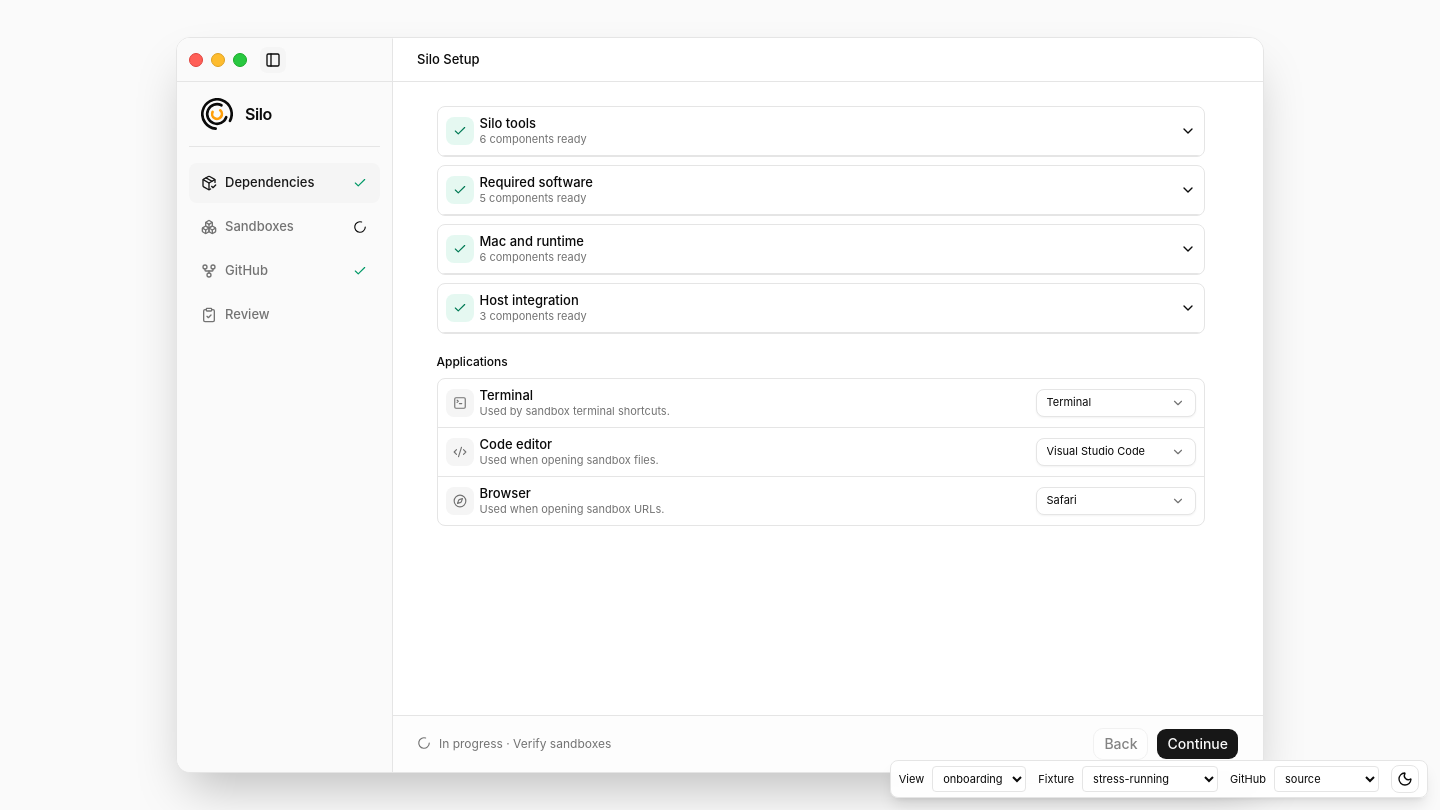
it: onboarding › keeps stress-fixture activity collapsed until requested and filters unsafe output
This screenshot has width=1440, height=810.
Click the tab "Sandboxes".
click(284, 227)  # box [189,207,380,247]
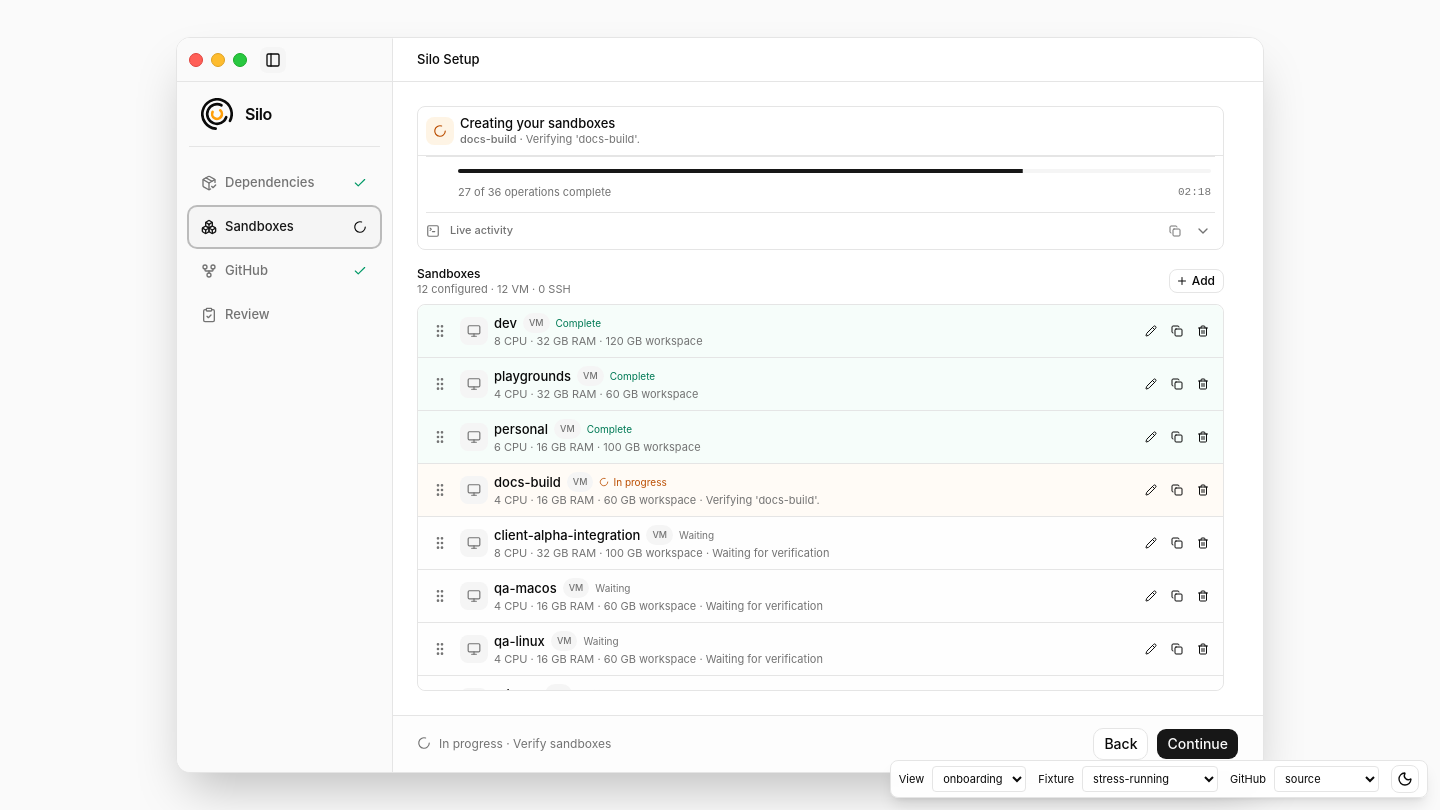
Now the text named "Elapsed time" reads "02:18", box [1178,186,1211,198]
Now the text "27 of 36 operations complete" is shown, box [458,185,611,200]
Now the text "12 configured · 12 VM · 0 SSH" is shown, box [417,282,571,296]
Click the button named "Expand activity".
click(1203, 231)  # box [1191,219,1215,243]
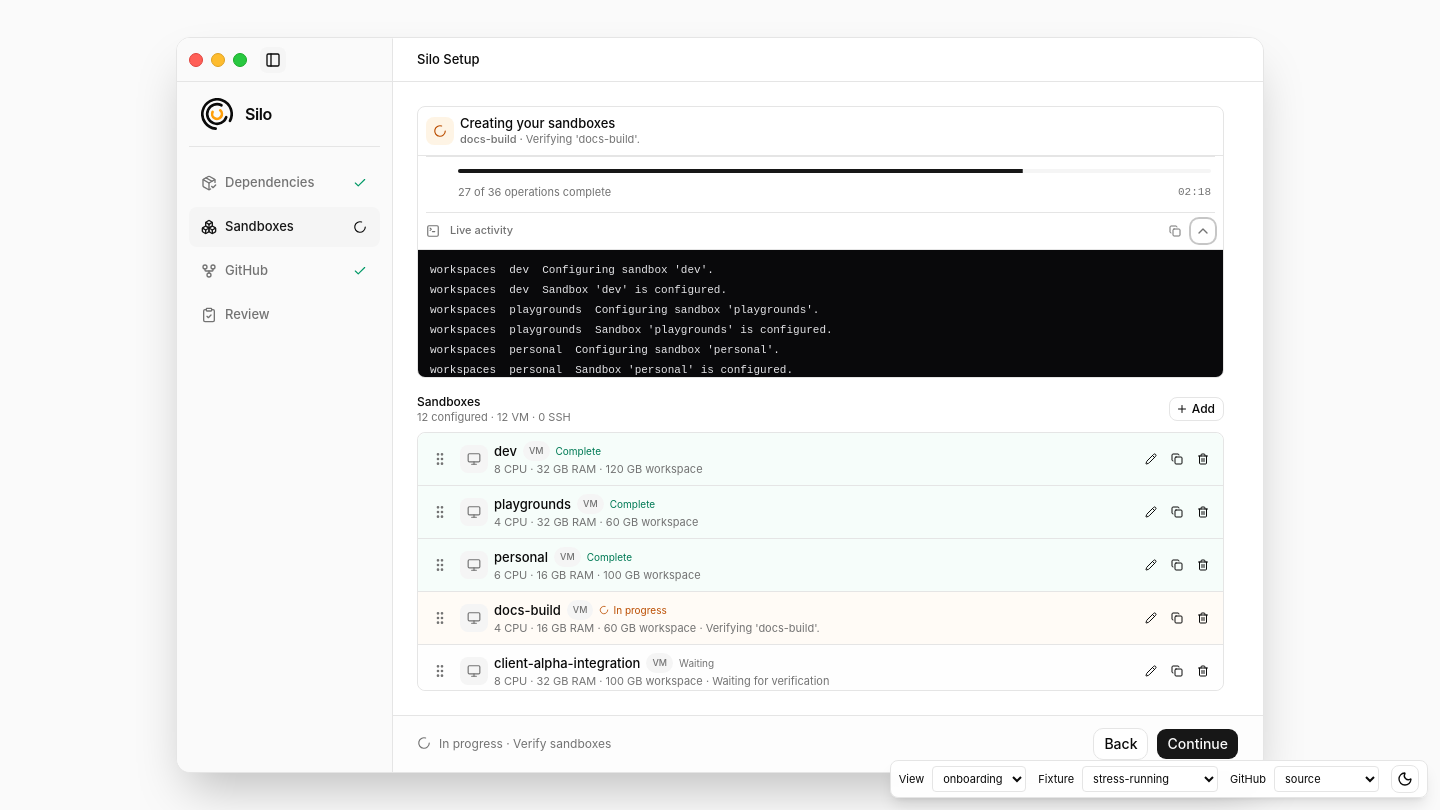
Now the button named "Expand activity" is expanded, box [1191,219,1215,243]
Click the button named "Copy activity".
click(1175, 231)  # box [1163,219,1187,243]
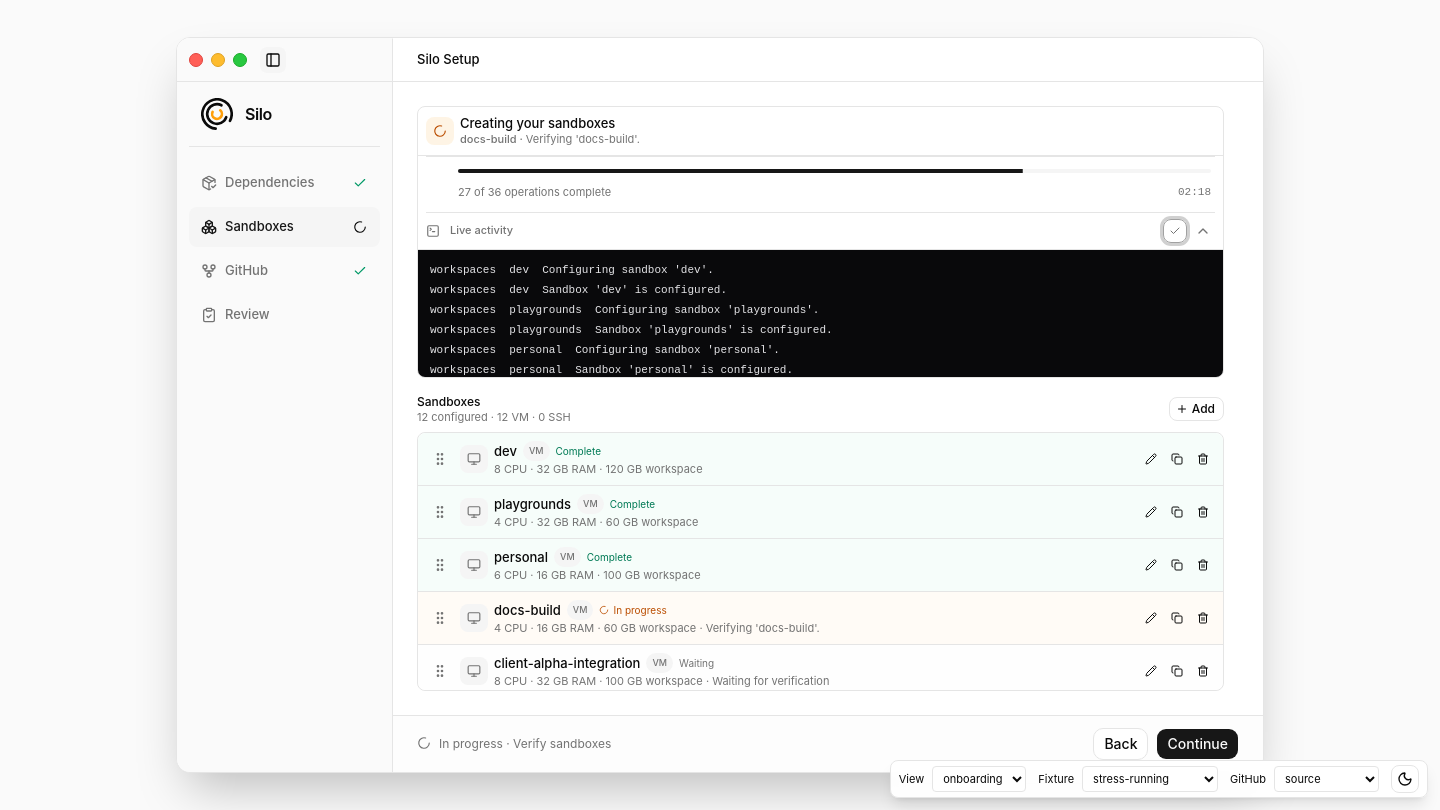
Now the button named "Activity copied" has attribute data-copy-status="copied", box [1163,219,1187,243]
Click the button named "Collapse activity".
click(1203, 231)  # box [1191,219,1215,243]
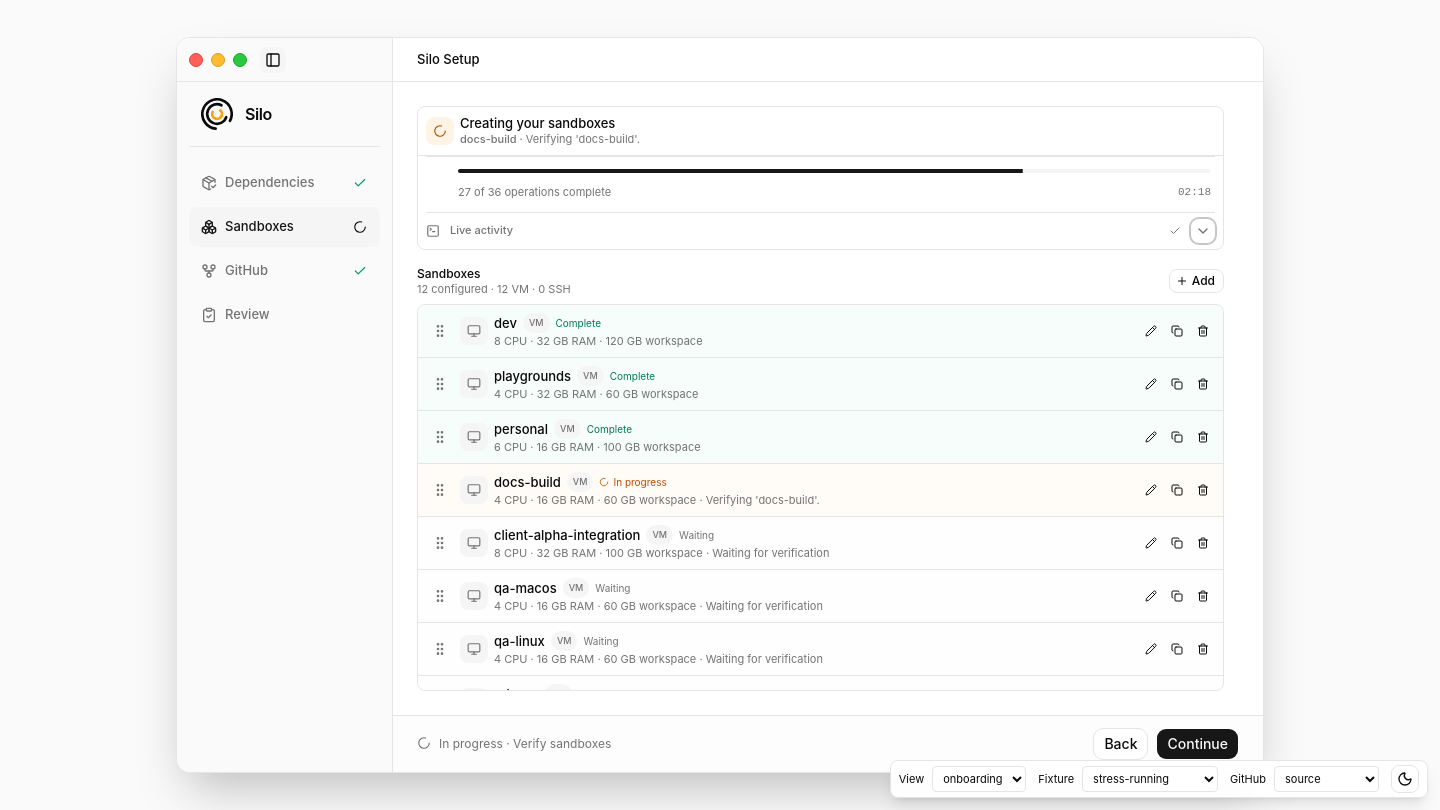
Now the list named "Configured sandboxes" is shown, box [418,305,1223,690]
Now the button named "Expand activity" is collapsed
Click the button named "Expand activity".
click(1203, 231)  # box [1191,219,1215,243]
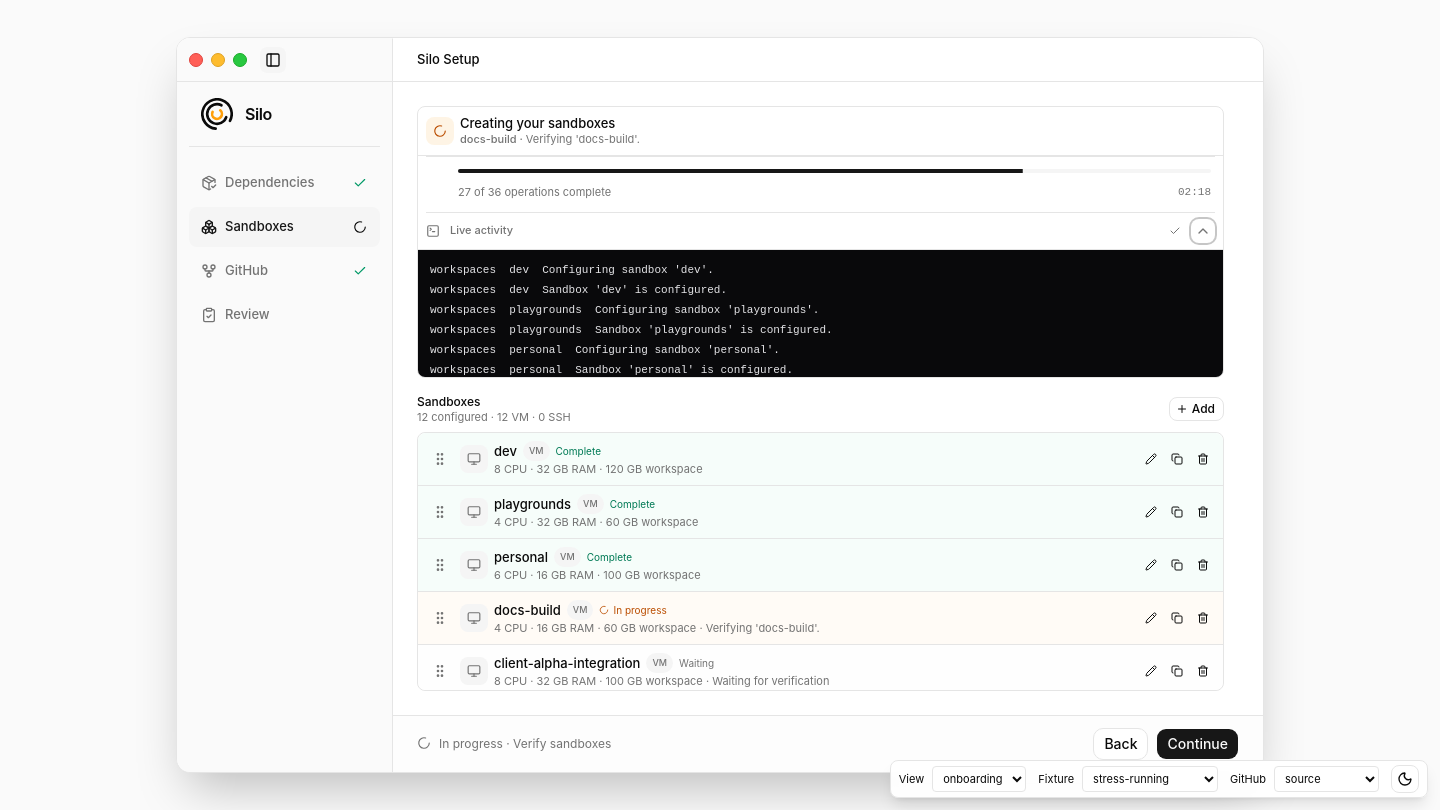
Now the text named "Sandbox activity" is shown, box [418,249,1223,377]
